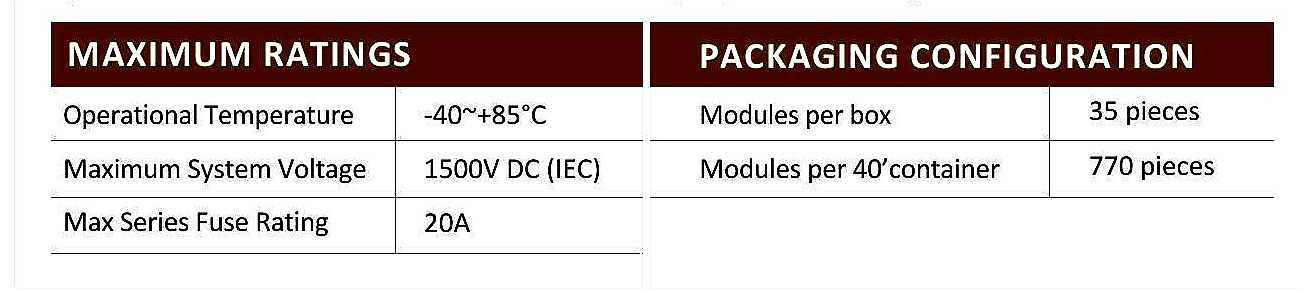table: (42, 14, 647, 265), (651, 14, 1289, 207)
table column: (52, 24, 394, 250), (662, 24, 1046, 191), (396, 28, 639, 247), (1050, 25, 1270, 195)
table name: (55, 25, 640, 82), (670, 28, 1270, 80)
table row: (657, 24, 1274, 83), (52, 25, 641, 86), (657, 144, 1271, 194), (54, 143, 643, 194), (55, 89, 642, 138), (55, 202, 640, 250), (660, 92, 1270, 136)
table row header: (53, 24, 391, 249), (667, 28, 1047, 188)
table spanning cell: (50, 25, 641, 86), (661, 29, 1267, 84)
